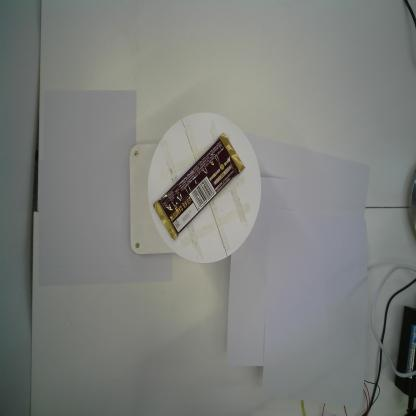Chocolate: (152, 132, 246, 242)
